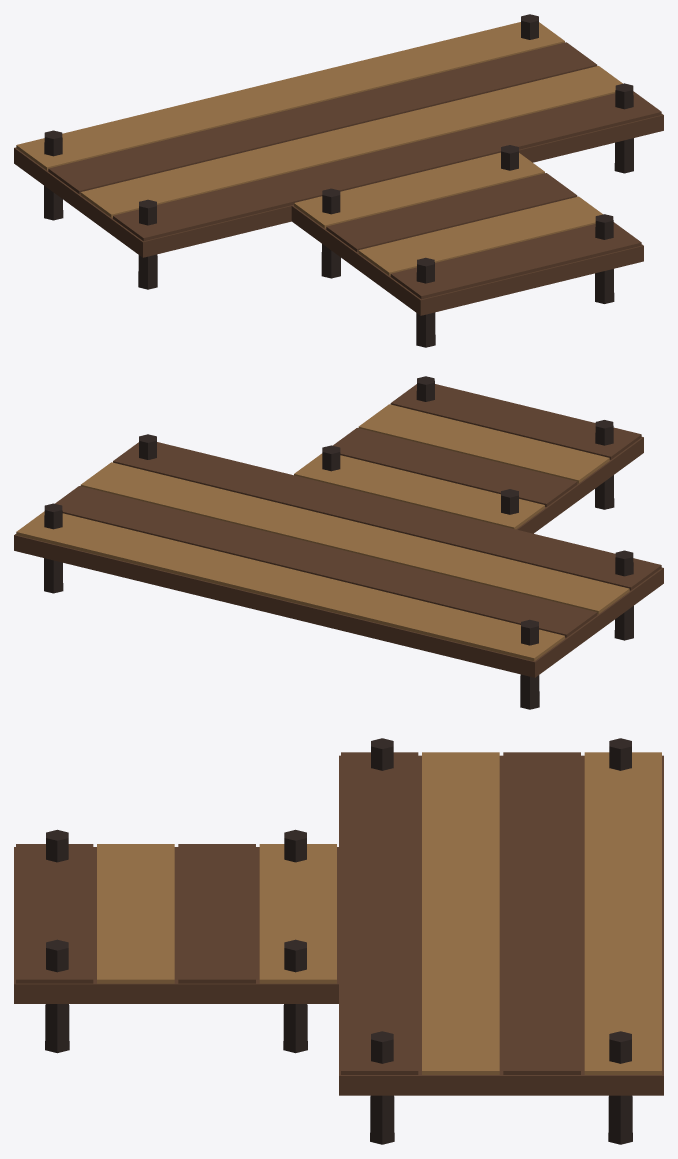
File: PirateCove_DockT_Simple.glb
3 views of the same model, one above another, from view 1: azimuth 30°, elevation 25°; view 2: azimuth 150°, elevation 25°; view 3: azimuth 270°, elevation 25° (orthographic). The views are drawn at different scales.
Visible parts, largest first — view 1: PirateCove_DockT_Simple; view 2: PirateCove_DockT_Simple; view 3: PirateCove_DockT_Simple.
Boxes of the visible parts, x1=… form: PirateCove_DockT_Simple: x1=14, y1=14, x2=663, y2=347; PirateCove_DockT_Simple: x1=14, y1=376, x2=663, y2=709; PirateCove_DockT_Simple: x1=14, y1=738, x2=663, y2=1144.
Bounding box in the file's own units: 7 × 1.04 × 6.
